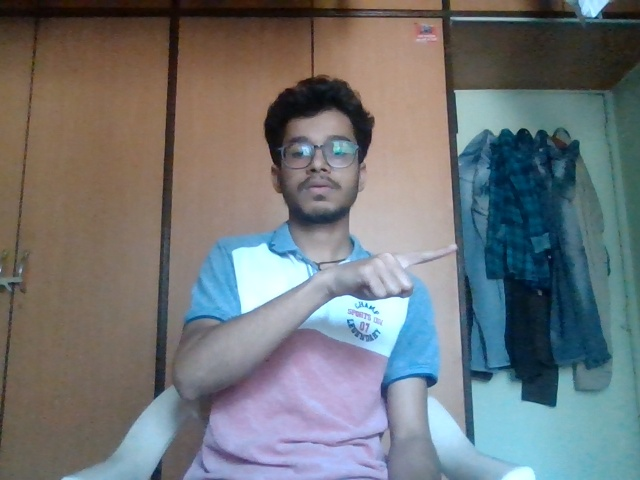you: (302, 238, 471, 320)
